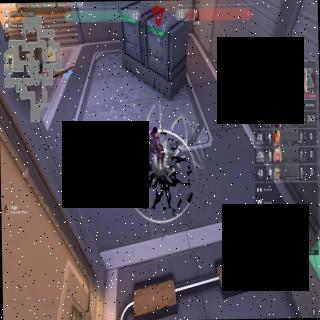ENEMY-BODY: (145, 126, 163, 171)
ENEMY-HEAD: (152, 124, 158, 138)
